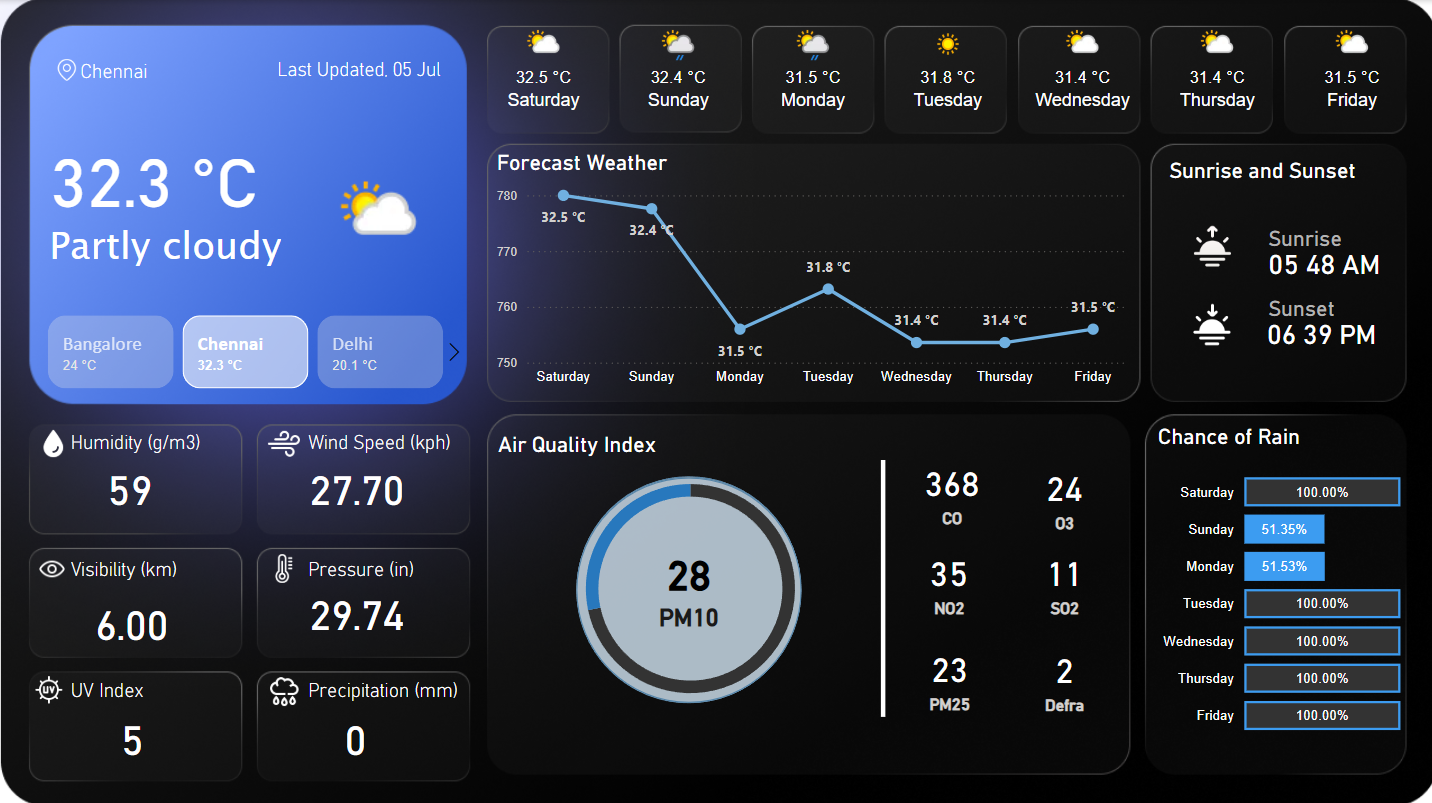

The page's visual inventory and layout, read from the dashboard file:
{"tool":"powerbi","page":{"name":"Page 1","canvas":[1280,720],"ordinal":0},"visuals":[{"type":"advancedSlicerVisual","fields":{"Values":["Locations.location.name"]},"box":[17.5,276.2,402.5,75],"z":0},{"type":"shape","box":[36.2,106.2,222.5,112.5],"z":1000},{"type":"shape","box":[36.2,170,403.8,97.5],"z":2000},{"type":"shape","box":[67.5,36.2,110,52.5],"z":3000},{"type":"shape","box":[237.7,35,158,53.1],"z":4000},{"type":"image","box":[26.2,47.5,66.2,28.8],"z":5000},{"type":"cardVisual","fields":{"Data":["Min(current.current.condition.icon)"]},"box":[270.9,133.3,124.9,106.7],"z":6000},{"type":"image","box":[26.7,488.4,39.3,36.5],"z":7000},{"type":"shape","box":[58.9,480,158.6,53.3],"z":8000},{"type":"shape","box":[270.9,367.7,158.6,53.3],"z":9000},{"type":"image","box":[26.7,377.5,42.1,35.1],"z":10000},{"type":"shape","box":[58.9,367.7,158.6,53.3],"z":11000},{"type":"image","box":[230.2,374.7,45,40],"z":12000},{"type":"shape","box":[270.9,480,158.6,53.3],"z":13000},{"type":"shape","box":[270.9,588.1,158.6,53.3],"z":14000},{"type":"shape","box":[58.9,588.1,158.6,53.3],"z":15000},{"type":"image","box":[230.2,595.1,44.9,40.7],"z":16000},{"type":"image","box":[21.1,596.5,44.9,35],"z":17000},{"type":"image","box":[230.2,488.4,44.9,35.1],"z":18000},{"type":"card","fields":{"Values":["Sum(current.current.humidity)"]},"box":[50.5,390.2,130.5,85.6],"z":19000},{"type":"card","fields":{"Values":["Sum(current.current.wind_kph)"]},"box":[252.6,390.2,130.5,85.6],"z":20000},{"type":"card","fields":{"Values":["Sum(current.current.pressure_in)"]},"box":[252.6,502.5,130.5,85.6],"z":21000},{"type":"card","fields":{"Values":["Sum(current.current.precip_mm)"]},"box":[251.2,613.3,130.5,85.6],"z":22000},{"type":"card","fields":{"Values":["Sum(current.current.vis_km)"]},"box":[51.9,510.9,130.5,85.6],"z":23000},{"type":"card","fields":{"Values":["Sum(current.current.uv)"]},"box":[51.9,613.3,130.5,85.6],"z":24000},{"type":"advancedSlicerVisual","fields":{"Values":["forecast_day.Day_Name"]},"box":[422.5,15.4,844.9,101.1],"z":25000},{"type":"lineChart","title":"Forecast Weather","fields":{"Y":["Sum(forecast_day.forecast.forecastday.day.avgtemp_c)"],"Category":["forecast_day.Day_Name"]},"box":[437.9,133.3,572.6,217.5],"z":26000},{"type":"shape","box":[1038.6,133.3,211.9,36.5],"z":27000},{"type":"shape","box":[1047,169.8,221.8,112.3],"z":28000},{"type":"shape","box":[1124.2,178.2,124.9,68.8],"z":29000},{"type":"shape","box":[1124.6,240.6,125.3,68.5],"z":30000},{"type":"shape","box":[1124.2,200.7,124.9,68.8],"z":31000},{"type":"shape","box":[1122.9,262.3,125.3,68.5],"z":32000},{"type":"image","box":[1049.8,193.7,60.4,50.5],"z":33000},{"type":"image","box":[1049.8,263.9,60.4,50.5],"z":34000},{"type":"hundredPercentStackedBarChart","title":"Chance of Rain","fields":{"Category":["forecast_day.Day_Name"],"Y":["Sum(forecast_day.forecast.forecastday.day.daily_chance_of_rain)","_Measures.left_value_rain"]},"box":[1026,377.5,226,291.9],"z":35000},{"type":"shape","box":[440.7,377.5,211.9,36.5],"z":36000},{"type":"card","fields":{"Values":["Sum(current.current.air_quality.co)"]},"box":[800,400,95.4,75.8],"z":37000},{"type":"card","fields":{"Values":["Sum(current.current.air_quality.gb-defra-index)"]},"box":[906.7,568.4,84.2,70.2],"z":38000},{"type":"shape","box":[513,424.4,200.5,202.2],"z":38250},{"type":"shape","box":[513.7,425.3,200.7,200.7],"z":38500},{"type":"card","fields":{"Values":["Sum(current.current.air_quality.no2)"]},"box":[797.2,481.4,96.8,74.4],"z":39000},{"type":"card","fields":{"Values":["Sum(current.current.air_quality.o3)"]},"box":[906.7,400,84.2,85.6],"z":40000},{"type":"card","fields":{"Values":["Sum(current.current.air_quality.pm2_5)"]},"box":[800,565.6,91.2,75.8],"z":42000},{"type":"card","fields":{"Values":["Sum(current.current.air_quality.so2)"]},"box":[906.7,481.4,84.2,74.4],"z":43000},{"type":"shape","box":[738.2,409.8,96.8,228.8],"z":44000},{"type":"donutChart","fields":{"Y":["_Measures.left_pm10","Sum(current.current.air_quality.pm10)"]},"box":[482.8,402.8,263.9,242.8],"z":45000},{"type":"card","fields":{"Values":["Sum(current.current.air_quality.pm10)"]},"box":[548.1,467.9,132,108.6],"z":45500}]}

Visuals, with their boxes in screenshot pixels (x1, y1, x2, y2), scaled from the page's 1280x720 canvas onto the 1432x803 screenshot:
advancedSlicerVisual - Locations.location.name: rect(20, 308, 470, 392)
shape: rect(40, 118, 289, 244)
shape: rect(40, 190, 492, 298)
shape: rect(76, 40, 199, 99)
shape: rect(266, 39, 443, 98)
image: rect(29, 53, 103, 85)
cardVisual - Min(current.current.condition.icon): rect(303, 149, 443, 268)
image: rect(30, 545, 74, 585)
shape: rect(66, 535, 243, 595)
shape: rect(303, 410, 481, 470)
image: rect(30, 421, 77, 460)
shape: rect(66, 410, 243, 470)
image: rect(258, 418, 308, 463)
shape: rect(303, 535, 481, 595)
shape: rect(303, 656, 481, 715)
shape: rect(66, 656, 243, 715)
image: rect(258, 664, 308, 709)
image: rect(24, 665, 74, 704)
image: rect(258, 545, 308, 584)
card - Sum(current.current.humidity): rect(56, 435, 202, 531)
card - Sum(current.current.wind_kph): rect(283, 435, 429, 531)
card - Sum(current.current.pressure_in): rect(283, 560, 429, 656)
card - Sum(current.current.precip_mm): rect(281, 684, 427, 779)
card - Sum(current.current.vis_km): rect(58, 570, 204, 665)
card - Sum(current.current.uv): rect(58, 684, 204, 779)
advancedSlicerVisual - forecast_day.Day_Name: rect(473, 17, 1418, 130)
"Forecast Weather" lineChart: rect(490, 149, 1130, 391)
shape: rect(1162, 149, 1399, 189)
shape: rect(1171, 189, 1419, 315)
shape: rect(1258, 199, 1397, 275)
shape: rect(1258, 268, 1398, 345)
shape: rect(1258, 224, 1397, 301)
shape: rect(1256, 293, 1396, 369)
image: rect(1174, 216, 1242, 272)
image: rect(1174, 294, 1242, 351)
"Chance of Rain" hundredPercentStackedBarChart: rect(1148, 421, 1401, 747)
shape: rect(493, 421, 730, 462)
card - Sum(current.current.air_quality.co): rect(895, 446, 1002, 531)
card - Sum(current.current.air_quality.gb-defra-index): rect(1014, 634, 1109, 712)
shape: rect(574, 473, 798, 699)
shape: rect(575, 474, 799, 698)
card - Sum(current.current.air_quality.no2): rect(892, 537, 1000, 620)
card - Sum(current.current.air_quality.o3): rect(1014, 446, 1109, 542)
card - Sum(current.current.air_quality.pm2_5): rect(895, 631, 997, 715)
card - Sum(current.current.air_quality.so2): rect(1014, 537, 1109, 620)
shape: rect(826, 457, 934, 712)
donutChart - _Measures.left_pm10 x Sum(current.current.air_quality.pm10): rect(540, 449, 835, 720)
card - Sum(current.current.air_quality.pm10): rect(613, 522, 761, 643)
